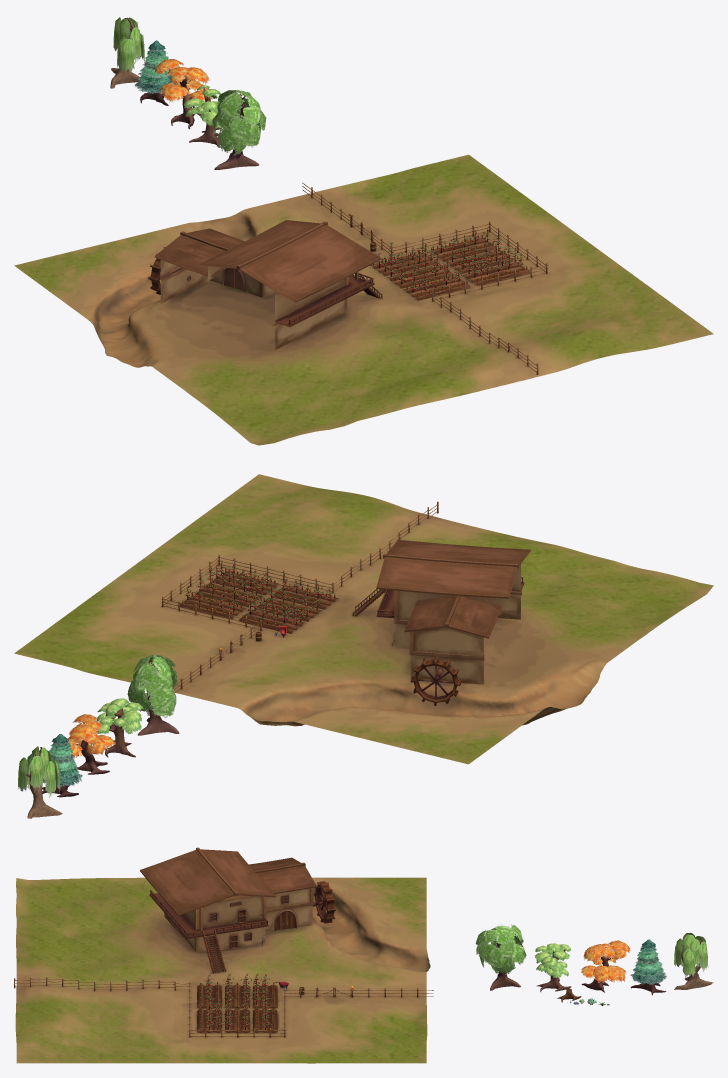
File: SuarezM_PII_HarvestHero_Texturizado_Lobby.fbx
3 renders of one model, top to bottom at view 1: azimuth 30°, elevation 25°; view 2: azimuth 150°, elevation 25°; view 3: azimuth 270°, elevation 25°, orthographic. The views are drawn at different scales.
Visible parts, largest first — view 1: Suelo, Casa, Harado, Arbol_4, Tomateras, Vallas, Arbol_2, Arbol_5, Arbol_3, Arbol_1; view 2: Suelo, Casa, Harado, Arbol_4, Tomateras, Vallas, Arbol_5, Arbol_2, Arbol_1, Arbol_3, Zanahorias; view 3: Suelo, Casa, Harado, Arbol_4, Vallas, Tomateras, Arbol_2, Arbol_5, Arbol_3, Arbol_1, Zanahorias.
Boxes of the visible parts, left/top/right/bottom form: Suelo: left=14, top=154, right=713, bottom=445; Casa: left=148, top=220, right=382, bottom=349; Harado: left=370, top=238, right=529, bottom=300; Arbol_4: left=212, top=90, right=266, bottom=169; Tomateras: left=376, top=228, right=523, bottom=292; Vallas: left=302, top=182, right=548, bottom=374; Arbol_2: left=154, top=59, right=213, bottom=129; Arbol_5: left=110, top=17, right=144, bottom=88; Arbol_3: left=134, top=40, right=174, bottom=105; Arbol_1: left=183, top=85, right=231, bottom=147; Suelo: left=14, top=474, right=713, bottom=764; Casa: left=352, top=539, right=530, bottom=705; Harado: left=180, top=571, right=338, bottom=633; Arbol_4: left=127, top=654, right=179, bottom=735; Tomateras: left=184, top=560, right=334, bottom=626; Vallas: left=161, top=501, right=438, bottom=692; Arbol_5: left=18, top=746, right=62, bottom=818; Arbol_2: left=67, top=714, right=115, bottom=774; Arbol_1: left=96, top=698, right=143, bottom=757; Arbol_3: left=42, top=734, right=82, bottom=797; Zanahorias: left=182, top=567, right=335, bottom=629; Suelo: left=15, top=877, right=430, bottom=1063; Casa: left=140, top=847, right=335, bottom=973; Harado: left=197, top=984, right=277, bottom=1032; Arbol_4: left=475, top=924, right=526, bottom=990; Vallas: left=14, top=976, right=433, bottom=1037; Tomateras: left=203, top=973, right=271, bottom=1029; Arbol_2: left=580, top=940, right=630, bottom=992; Arbol_5: left=674, top=932, right=713, bottom=989; Arbol_3: left=630, top=939, right=666, bottom=995; Arbol_1: left=535, top=943, right=571, bottom=991; Zanahorias: left=200, top=982, right=274, bottom=1029.
Size of the model in its own units: 7353 by 1462 by 11456.
Materials: 21 (21 with a texture image).
